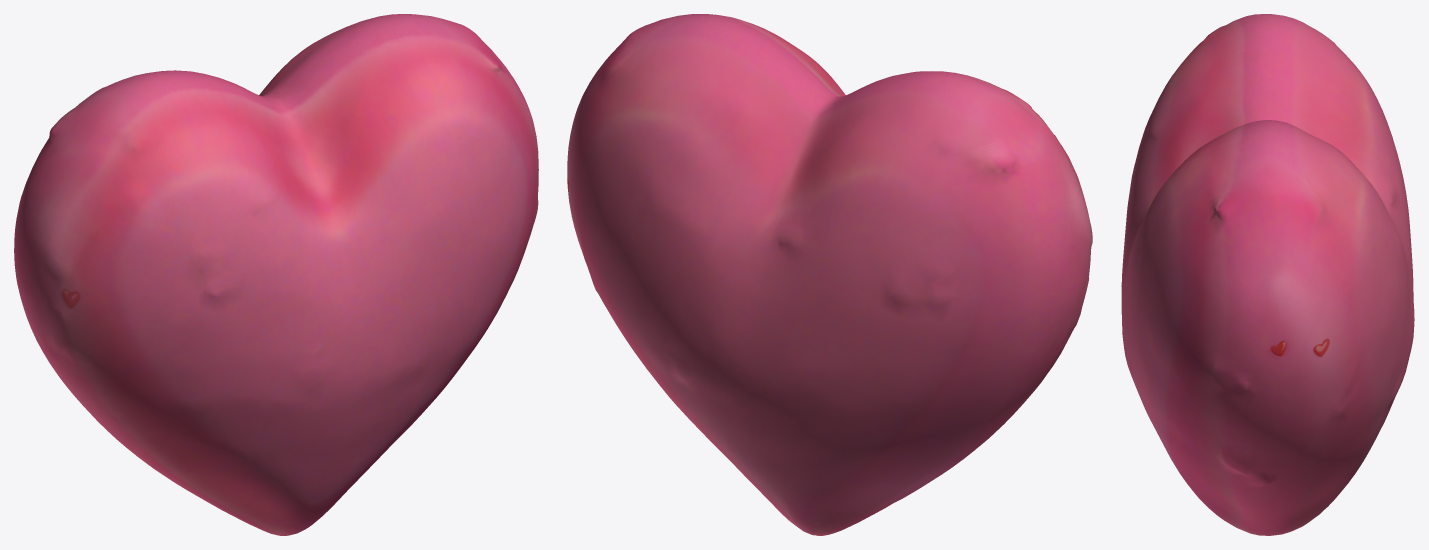
File: heart.glb
The picture shows the model from 3 angles, left to right: view 1: azimuth 30°, elevation 25°; view 2: azimuth 150°, elevation 25°; view 3: azimuth 270°, elevation 25°; orthographic projection. The views are drawn at different scales.
Size of the model in its own units: 2.01 by 1.87 by 1.09.
Materials: 1 (1 with a texture image).
